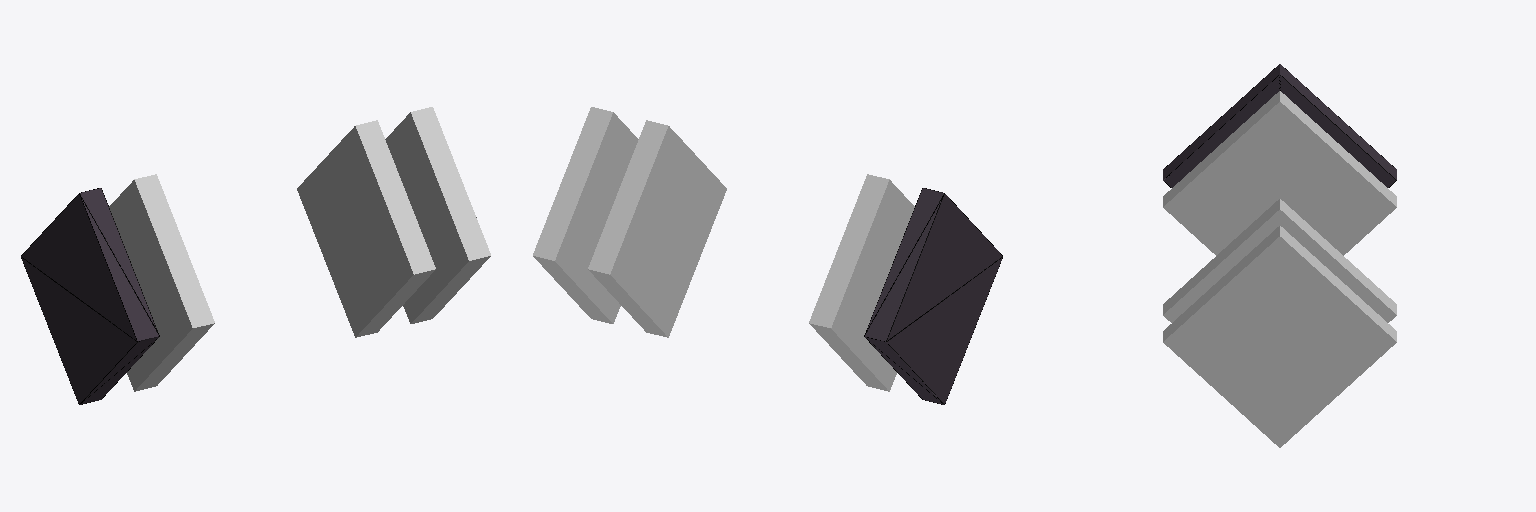
The picture shows the model from 3 angles: view 1: azimuth 30°, elevation 25°; view 2: azimuth 150°, elevation 25°; view 3: azimuth 270°, elevation 25°; orthographic projection.
Parts seen in each view (by area): view 1: 立方体.009, 立方体.004, 立方体.008, 立方体.005; view 2: 立方体.009, 立方体.004, 立方体.008, 立方体.005; view 3: 立方体.008, 立方体.005, 立方体.004, 立方体.009.
Boxes of the visible parts, <box> form: 立方体.009: <box>21,188,159,404</box>; 立方体.004: <box>297,120,435,337</box>; 立方体.008: <box>385,107,490,323</box>; 立方体.005: <box>109,174,214,391</box>; 立方体.009: <box>864,188,1002,404</box>; 立方体.004: <box>588,120,726,337</box>; 立方体.008: <box>533,107,638,323</box>; 立方体.005: <box>809,174,914,391</box>; 立方体.008: <box>1163,226,1396,447</box>; 立方体.005: <box>1163,91,1396,255</box>; 立方体.004: <box>1163,199,1396,322</box>; 立方体.009: <box>1163,64,1396,187</box>.
Size of the model in its own units: 5.12 by 2.94 by 2.94.
1 materials, 1 textured.